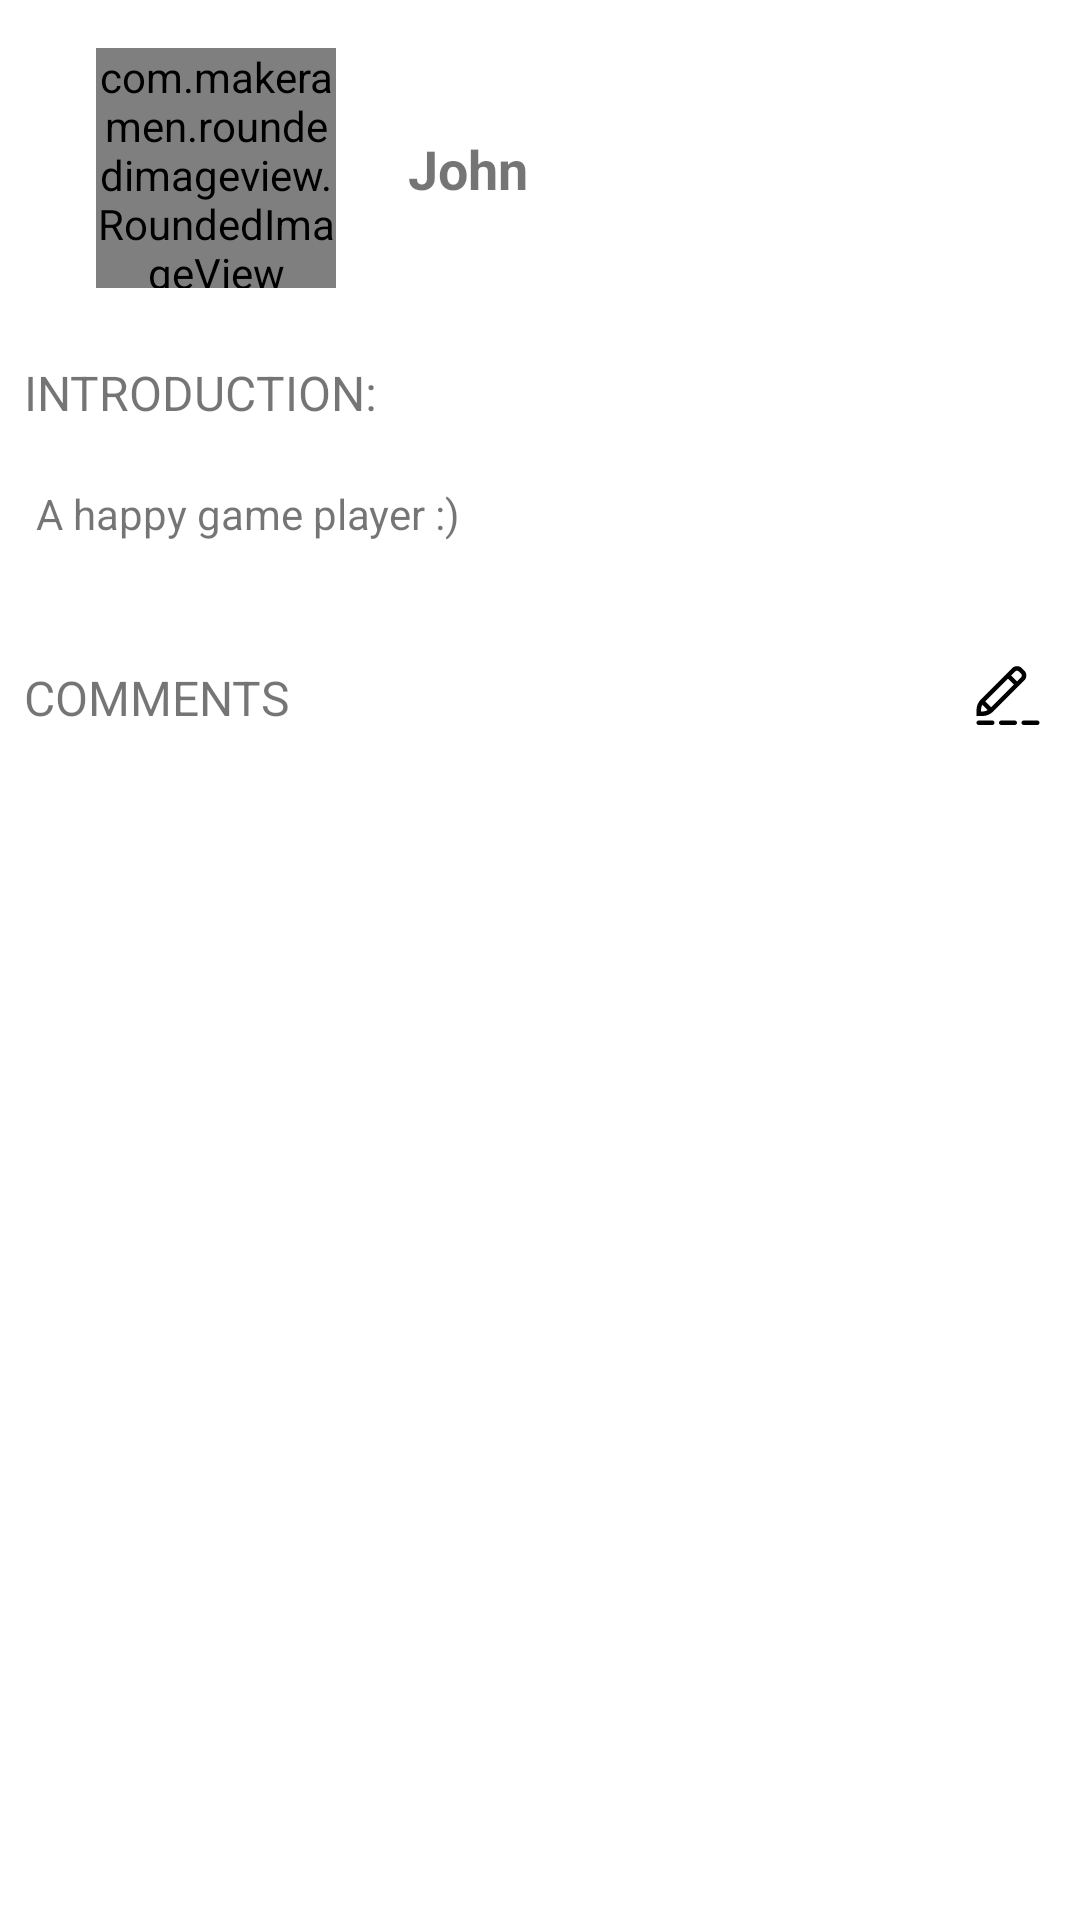

Icons on this 1080 × 1920 Android screen, each with its box as [x1=x1, y1=y1, x2=x2, y2=y2]:
edit: [x1=976, y1=666, x2=1040, y2=725]
